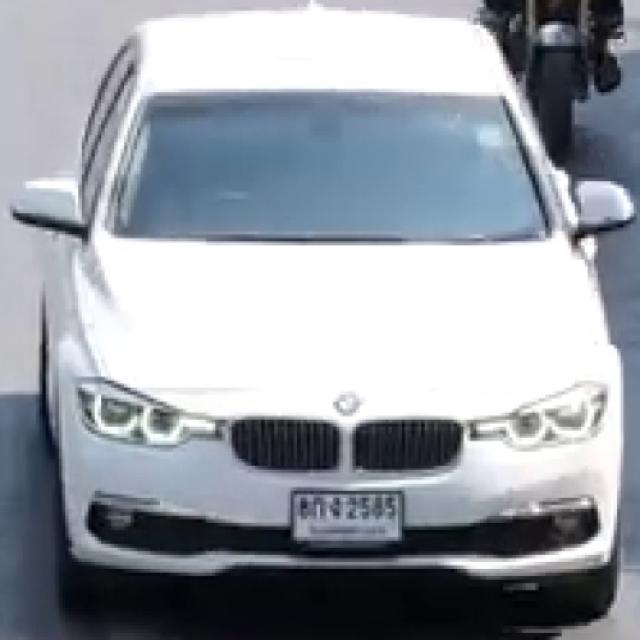plate: (290, 488, 405, 551)
